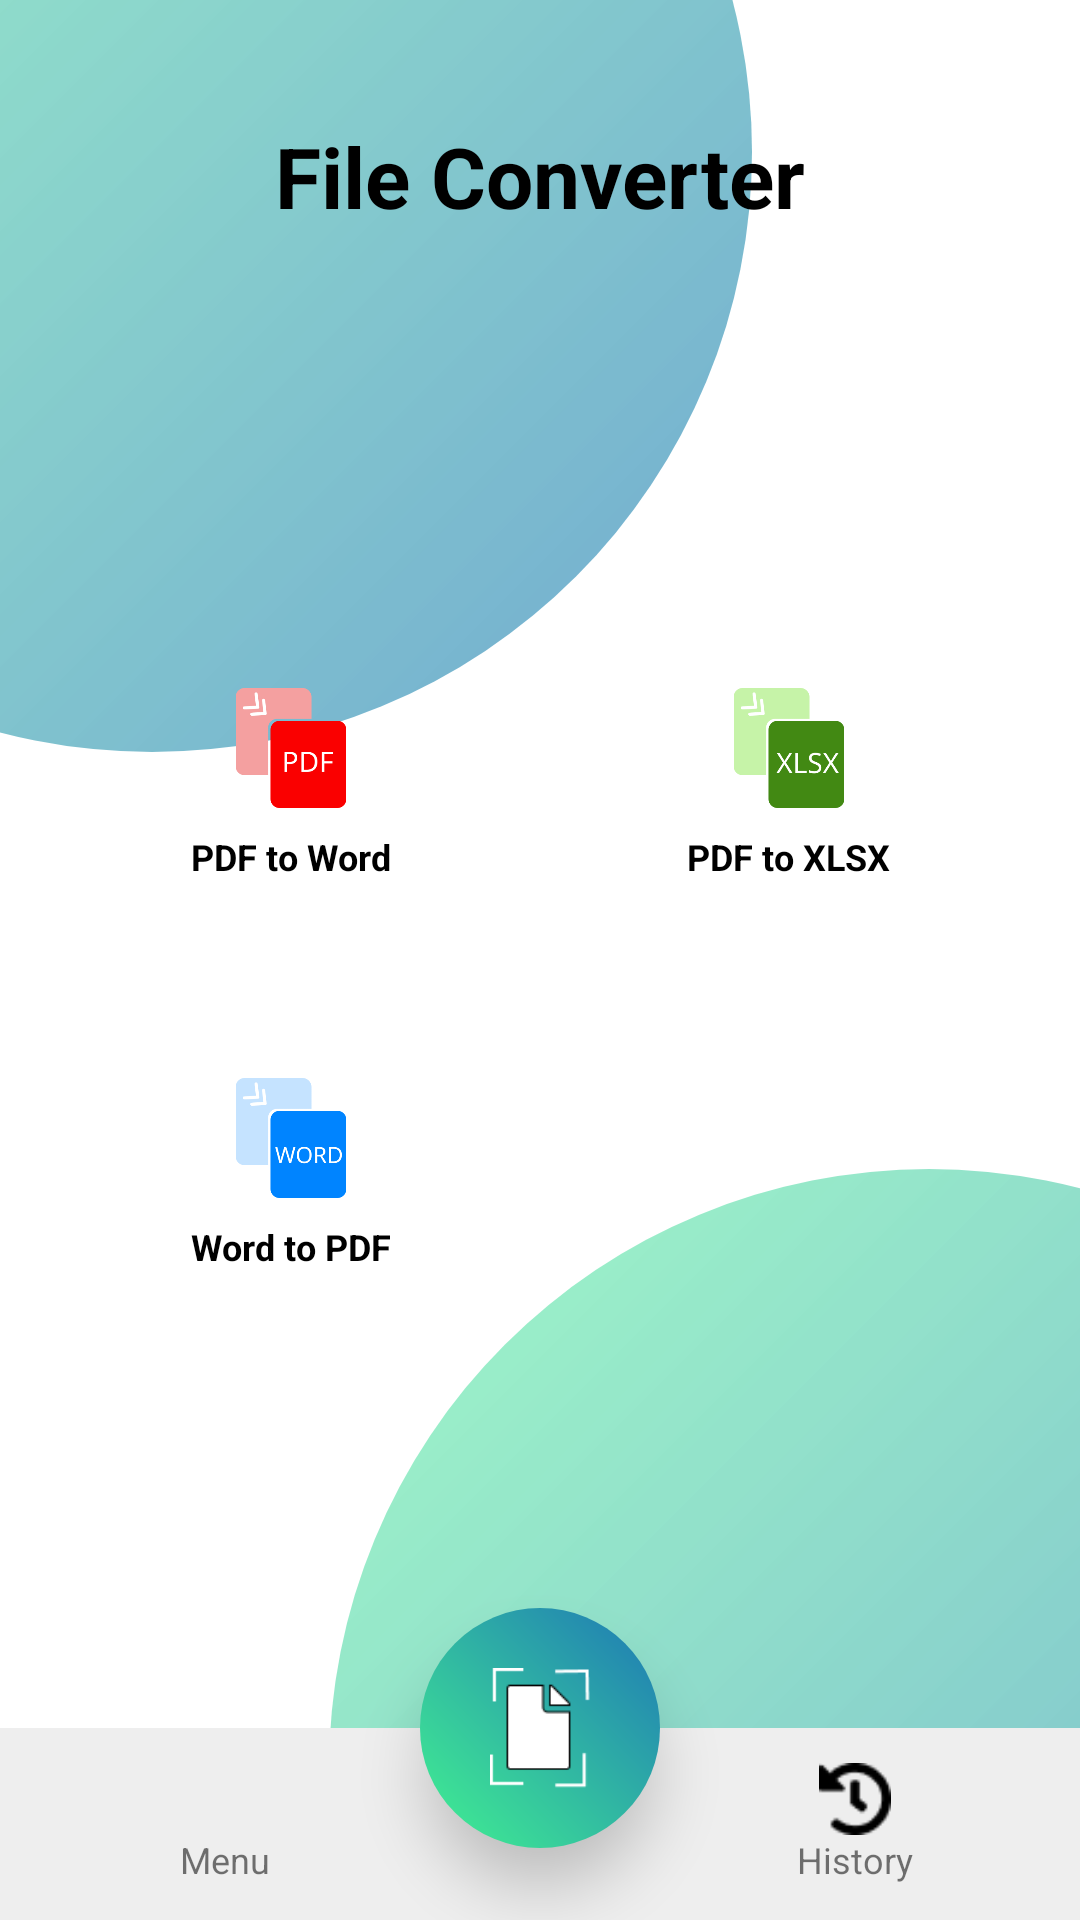

Where to tap for icons on this 1080px×1920px app screen, as (x=x, y=y):
scan: (x=540, y=1728)
